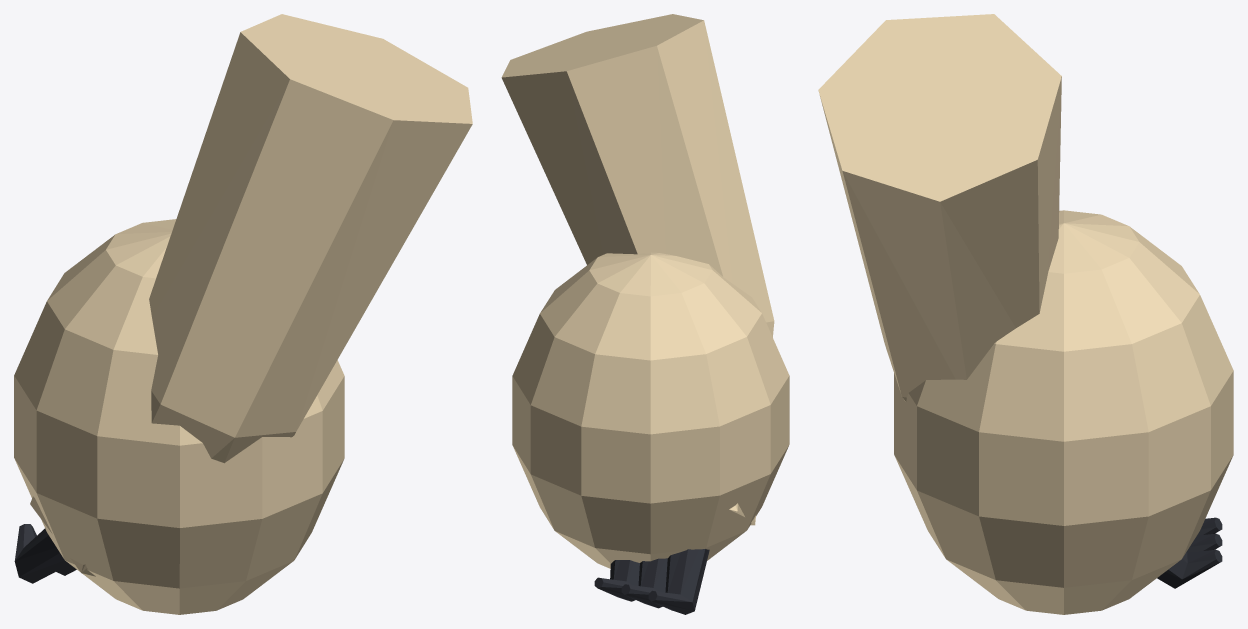
Rendered from gorehulk_f_arm_-1.obj.
3 views of the same model, side by side, from view 1: azimuth 30°, elevation 25°; view 2: azimuth 150°, elevation 25°; view 3: azimuth 270°, elevation 25° (orthographic). The views are drawn at different scales.
Visible parts, largest first — view 1: gorehulk_f_arm_-1; view 2: gorehulk_f_arm_-1; view 3: gorehulk_f_arm_-1.
Boxes of the visible parts, bbox=[...] form: gorehulk_f_arm_-1: bbox=[14, 14, 472, 614]; gorehulk_f_arm_-1: bbox=[501, 14, 789, 614]; gorehulk_f_arm_-1: bbox=[818, 14, 1233, 614].
Size of the model in its own units: 0.566 by 0.8576 by 0.5367.
